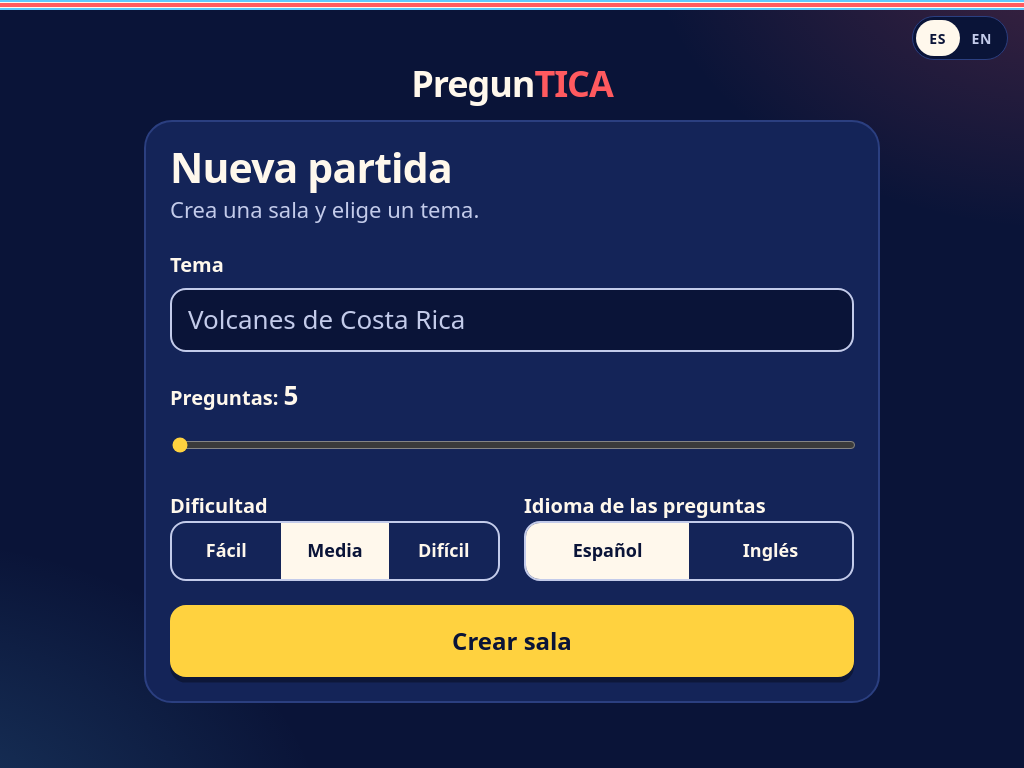
Test: form › cannot be sent twice while the room is being created
Type "Volcanes" into the field labelled "Tema" at (512, 320), box [170,288,854,352]
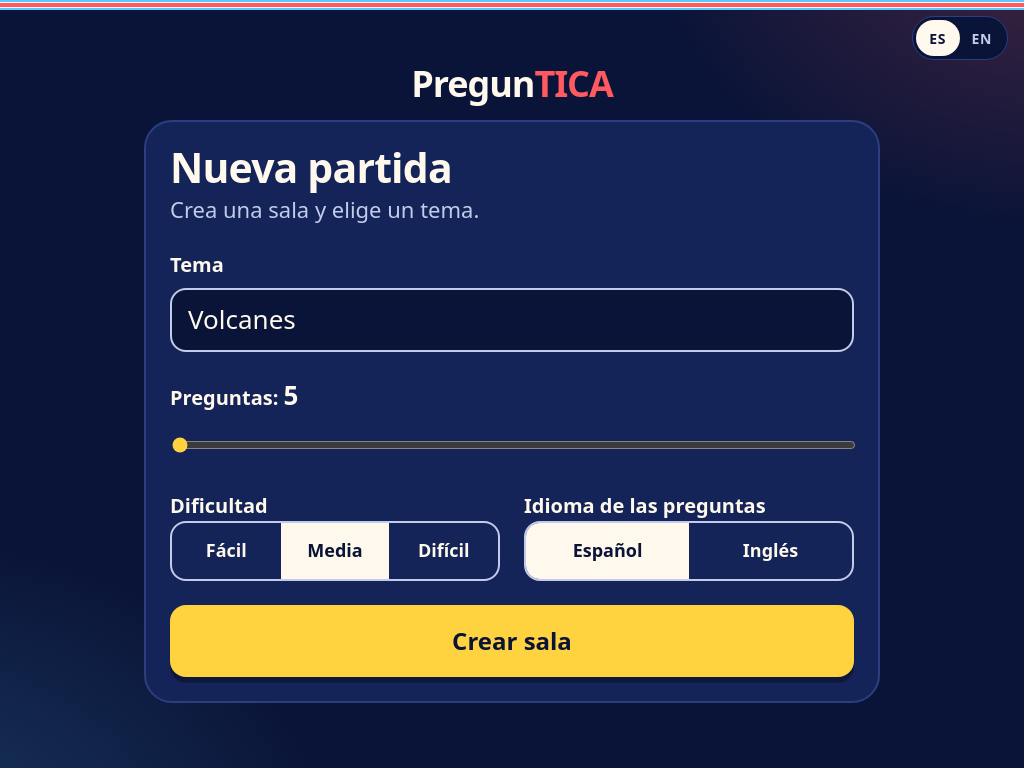
Click the button "Crear sala" at (512, 640), box [170,604,854,676]
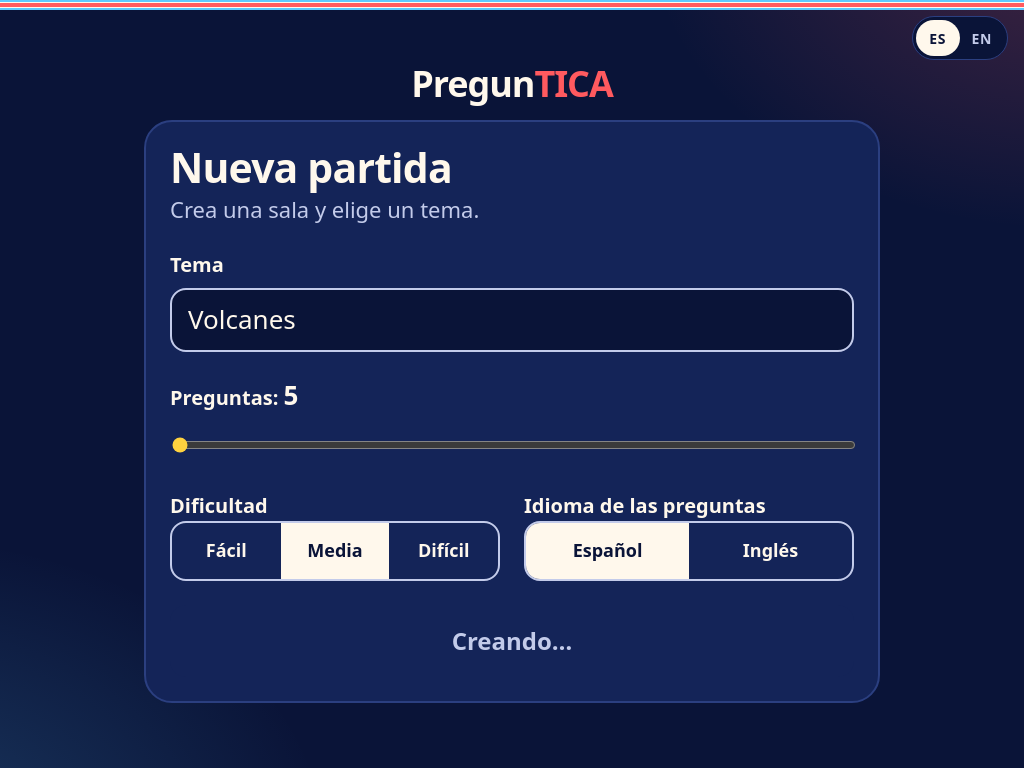
expect the button "Creando…" is disabled: met, box [170,604,854,676]
